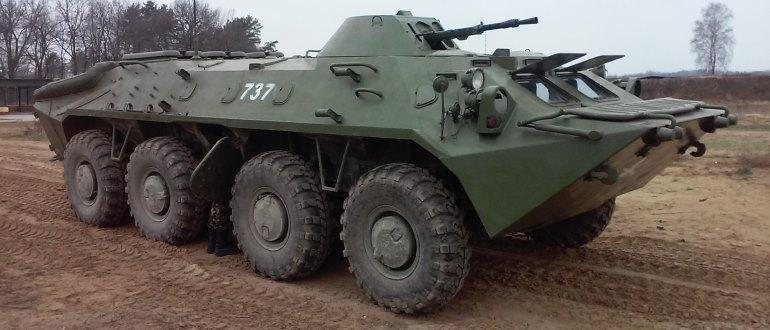tank: (24, 14, 741, 324)
